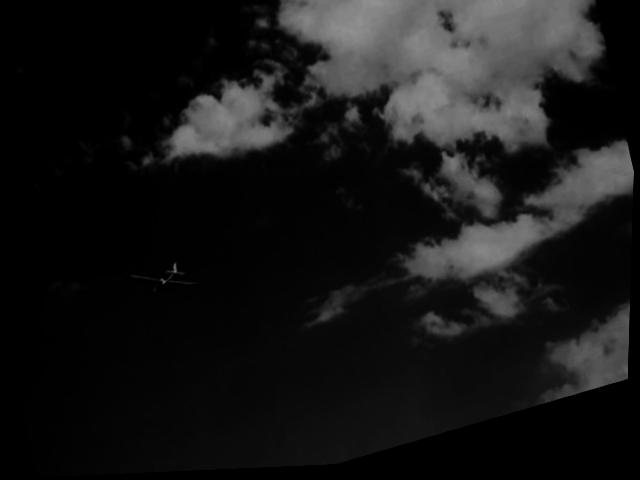hedef: (124, 249, 206, 316)
